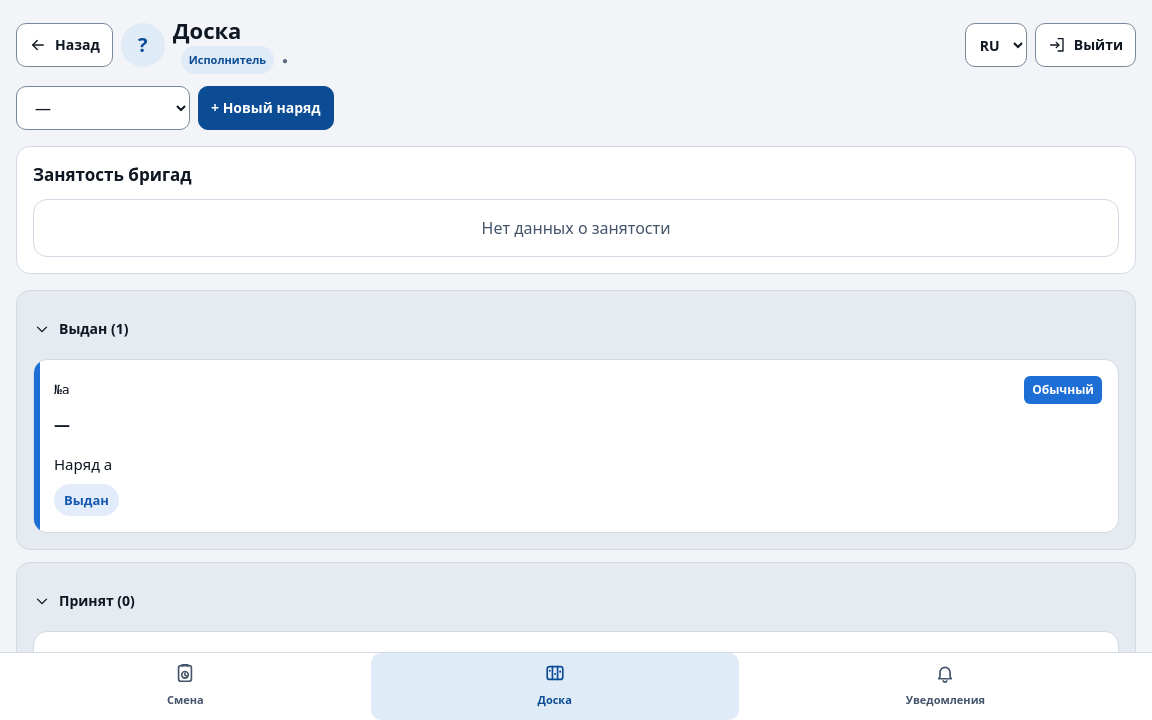
MasterBoard › collapses columns and persists state
The image size is (1152, 720).
Expected: the text "Наряд a" is shown, [54,454,112,474]
Click the button "Выдан (1)": x=83, y=328 [33,307,1119,351]
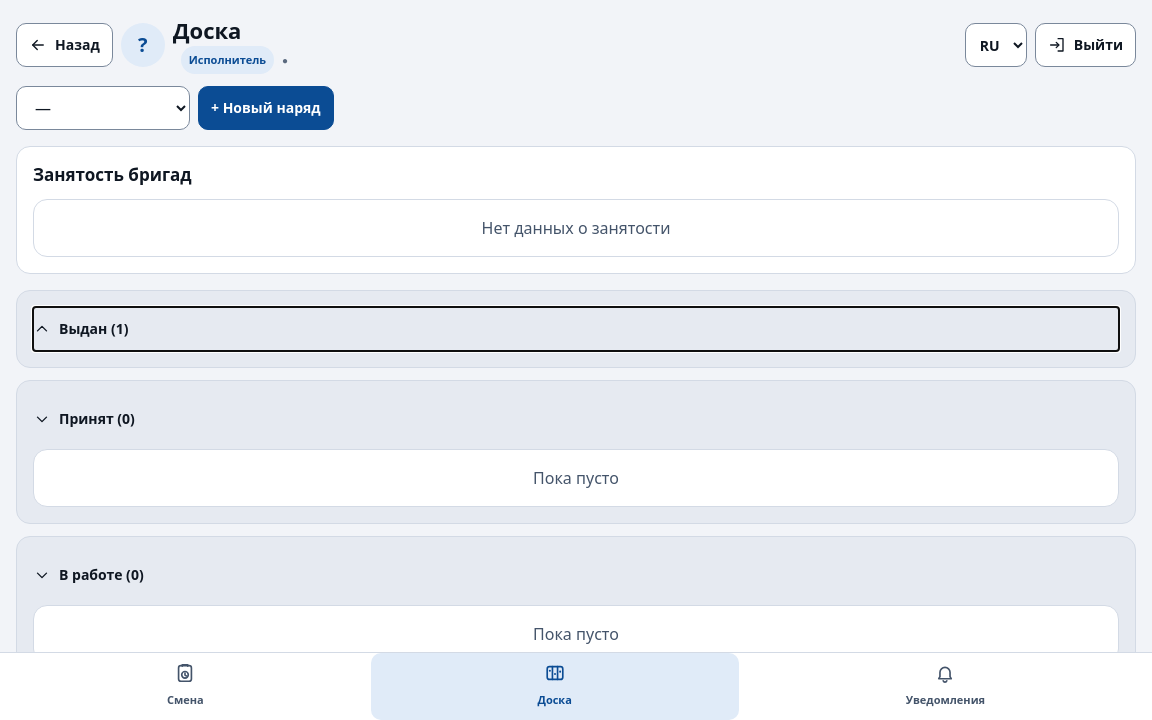
Result: the link "Наряд a" is gone
